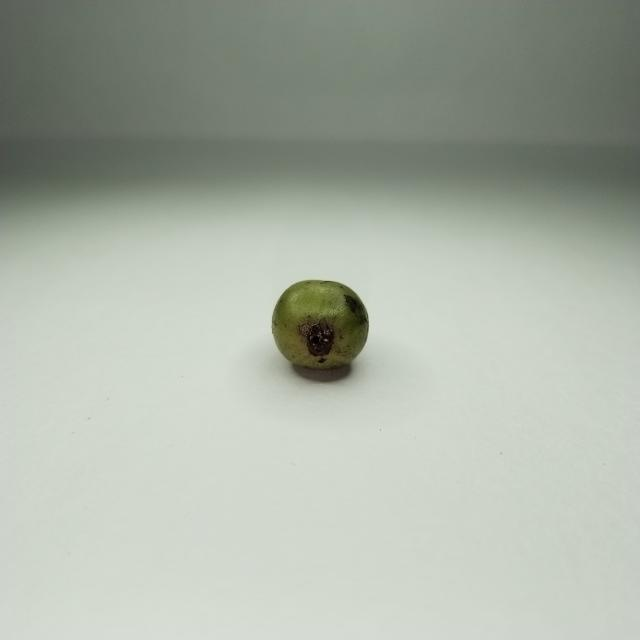Infectado: (272, 281, 370, 371)
